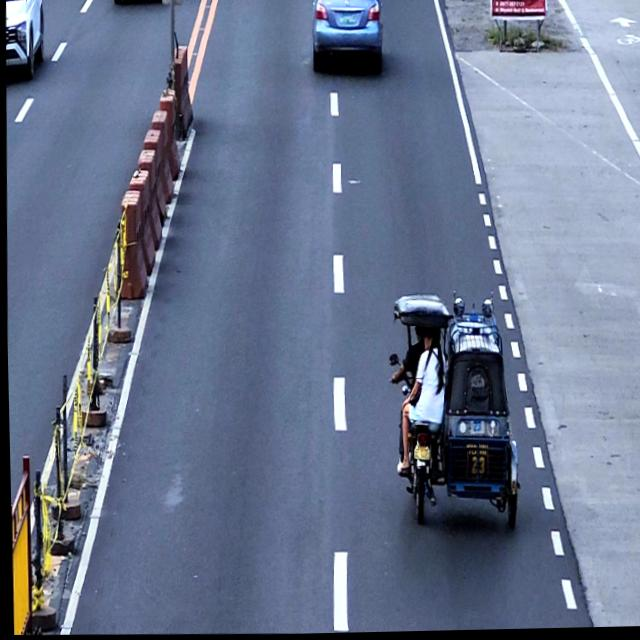Car: (310, 0, 384, 75), (4, 0, 44, 79)
License-Plate: (410, 446, 428, 462), (338, 12, 356, 26)
Tricycle: (383, 292, 523, 536)
